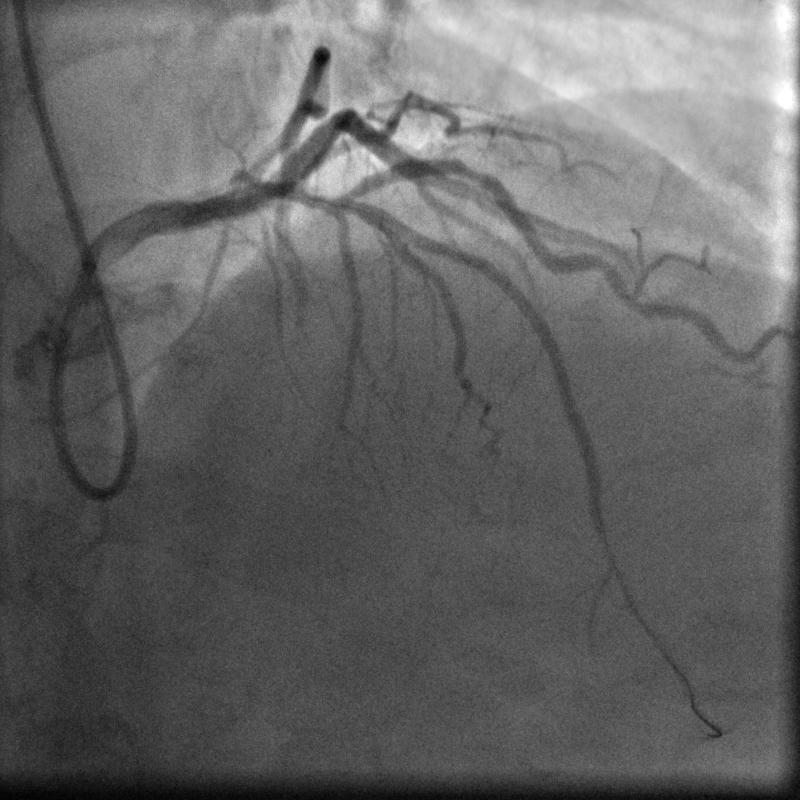Stenosis: (448, 155, 495, 189)
